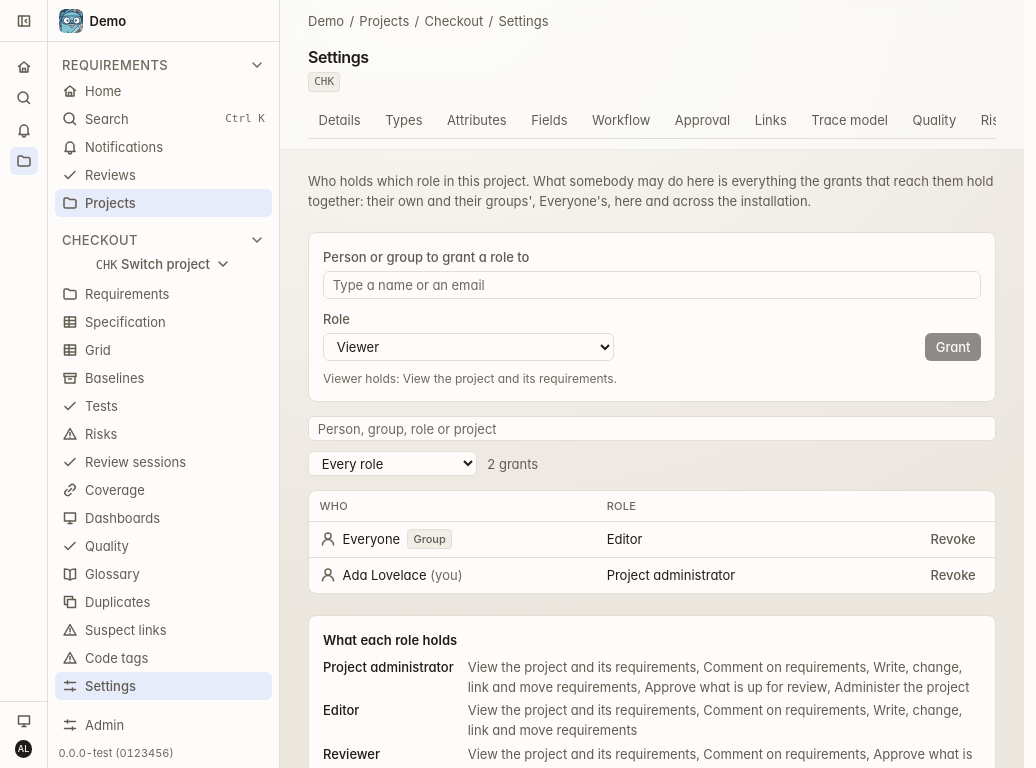
Test case: a project's permissions › grants a role to a person one at a time
Expected: the element that starts with "Person or group to grant a role to" is shown, [308,232,996,402]
Type "pau" into the dropdown labelled "Person or group to grant a role to".
click(652, 285); type("pau")  # box [323,271,981,299]
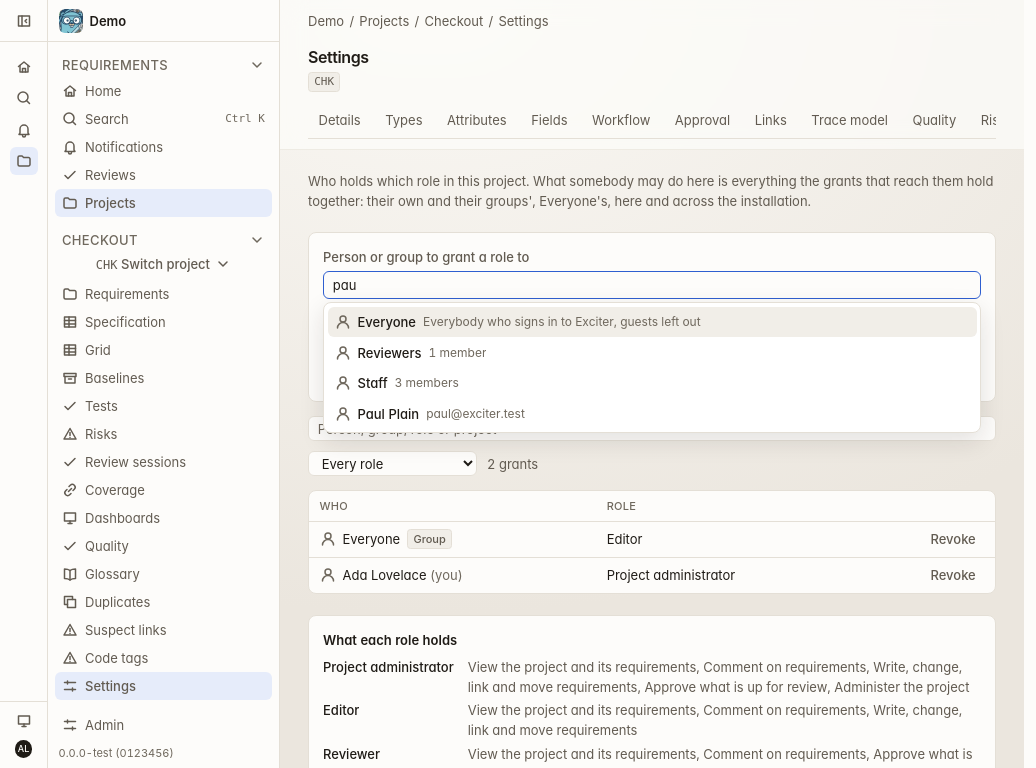
Click the option "Paul Plain paul@exciter.test".
click(430, 414)  # box [334,406,525,422]
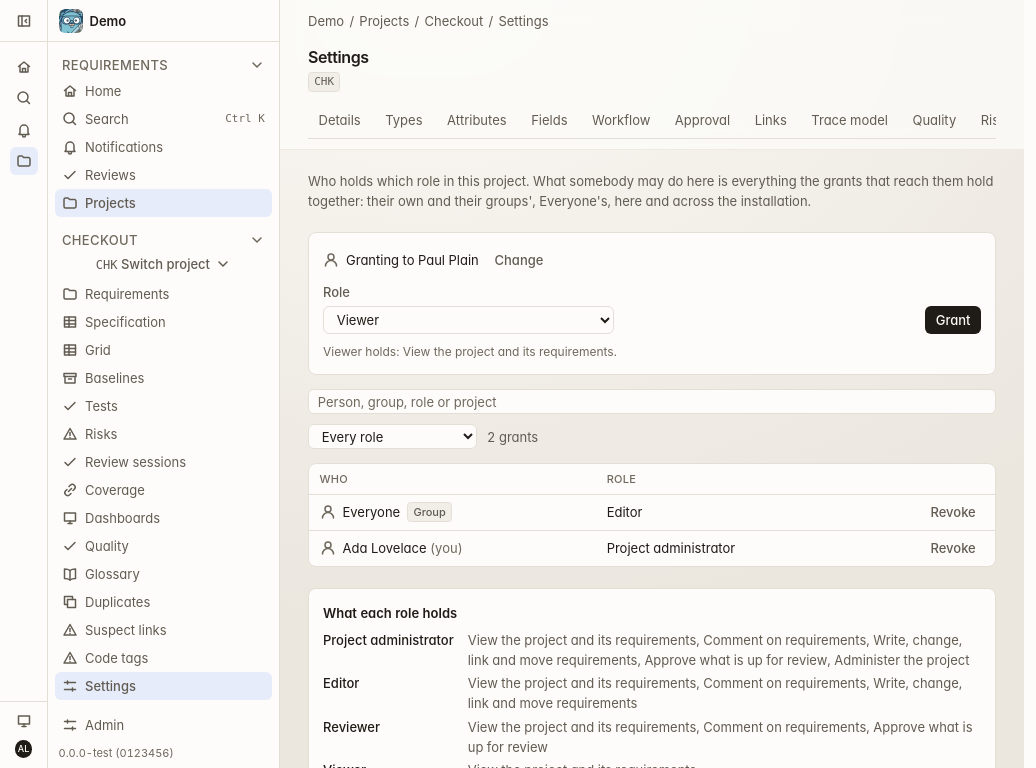
Select "Reviewer" in the dropdown labelled "Role" at [468, 320], box [323,306,614,334]
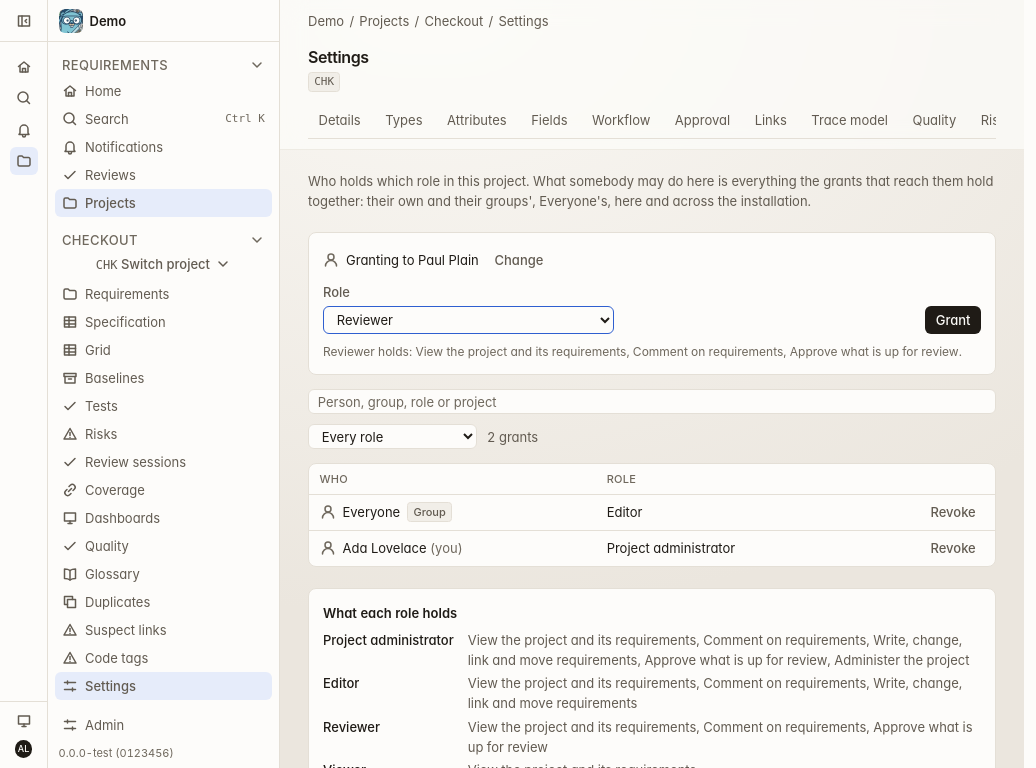
Click the button "Grant".
click(953, 320)  # box [925,306,981,334]
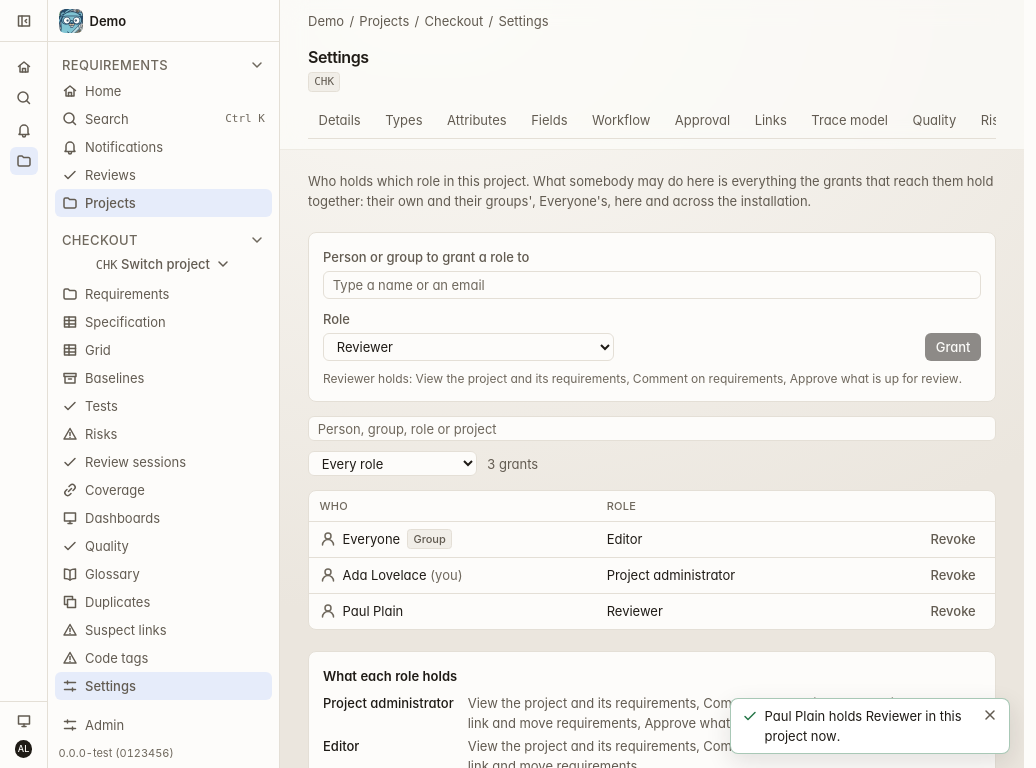
Now the text "Paul Plain" is shown, box [342,601,403,621]
Now the text "Paul Plain holds Reviewer in this project now." is shown, box [764,706,970,746]
